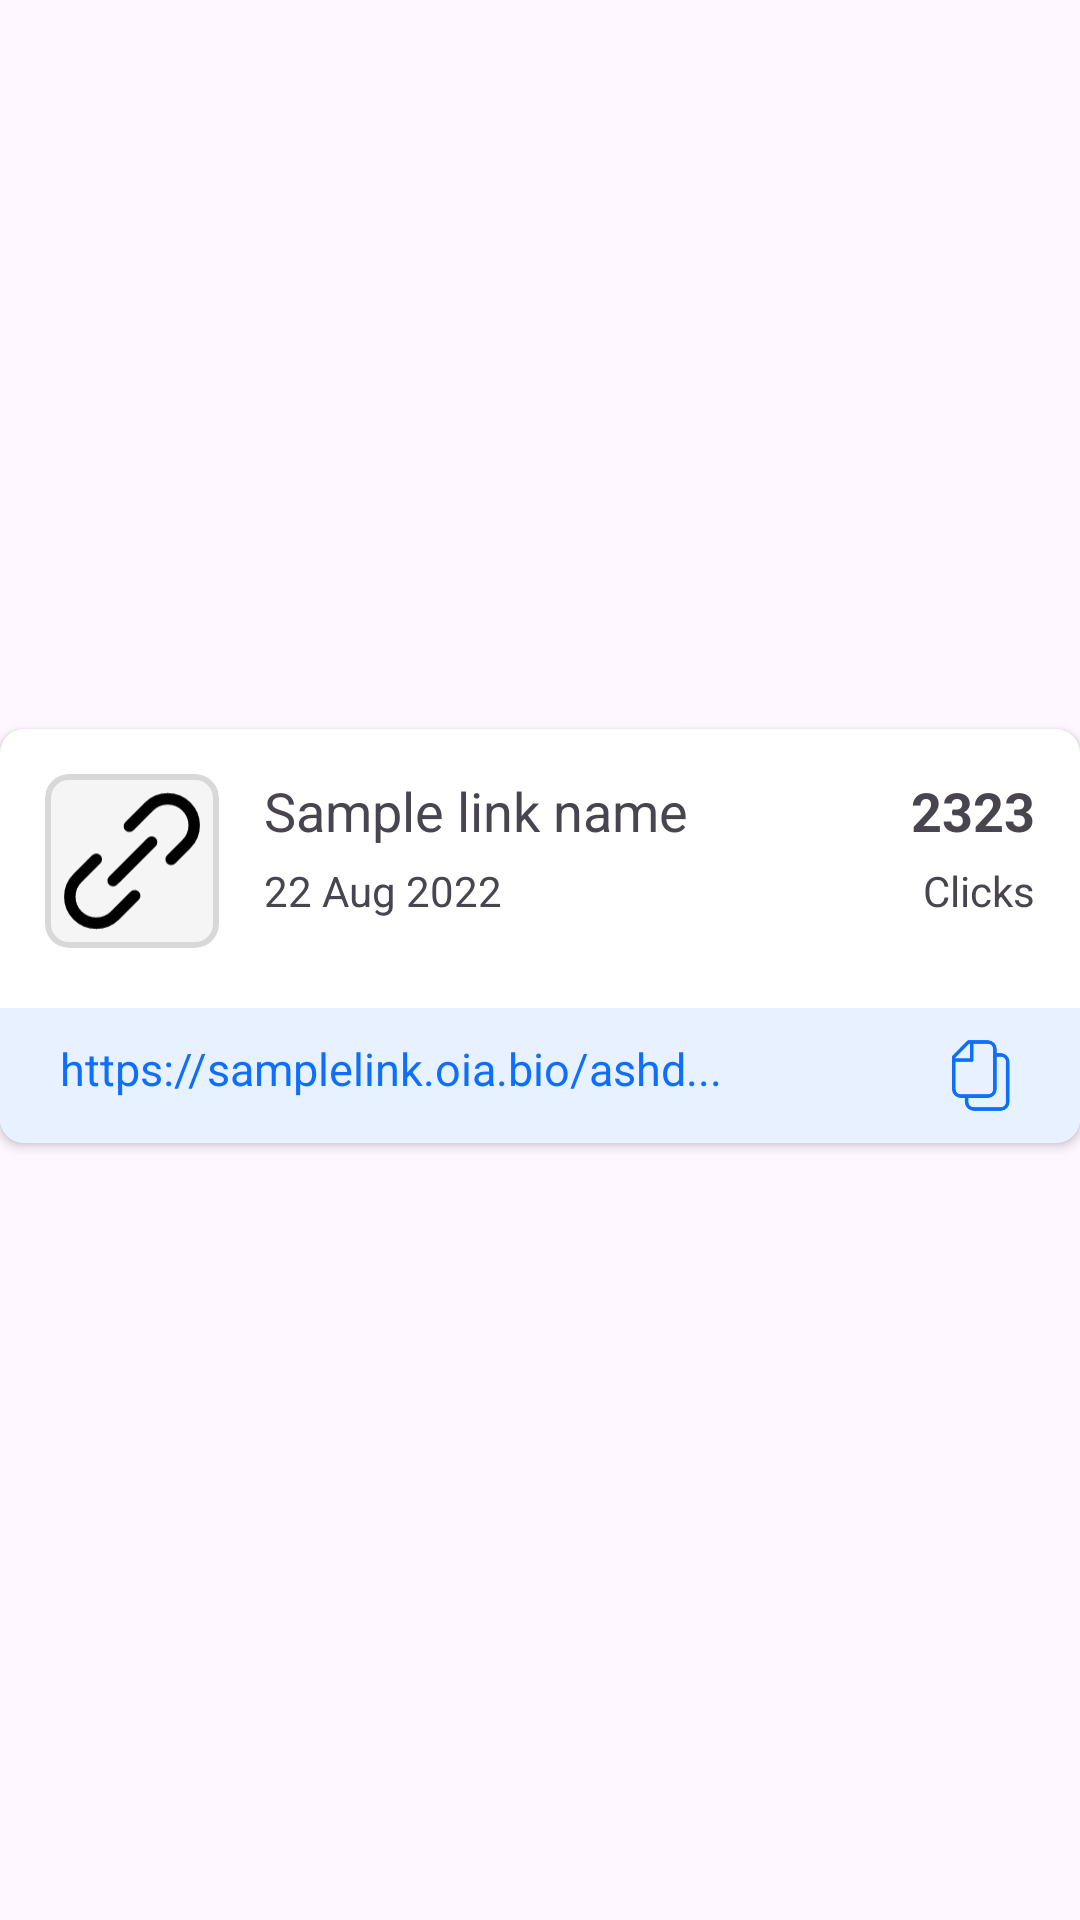

Locate icon controls on the screen. Image size 1080 × 1920, boxes as [x1=x1, y1=y1, x2=x2, y2=y2].
links: [x1=64, y1=792, x2=200, y2=930]
